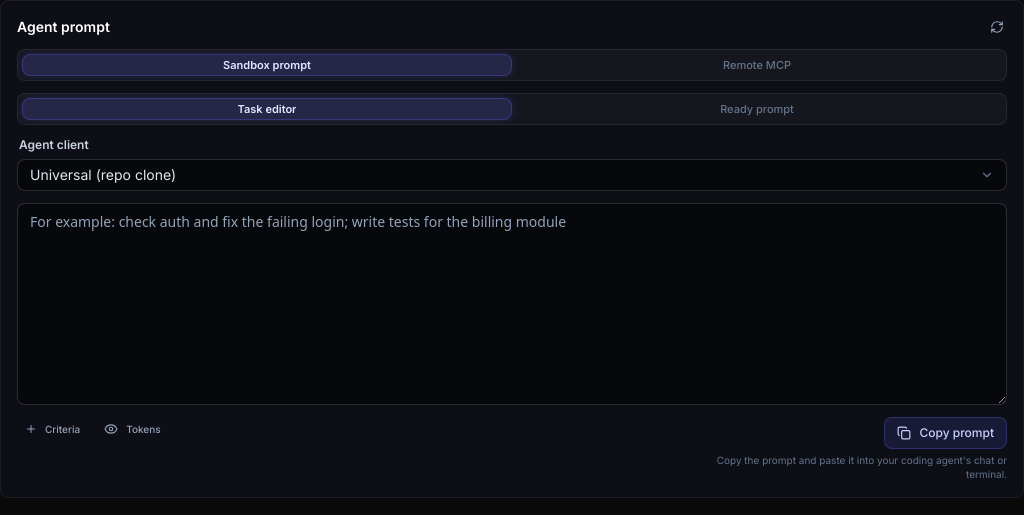
DevboxPrompt copy feedback › flashes the same footer CTA on the prompt tab
Click the button "Ready prompt" at point(757, 109), box [512,97,1002,121]
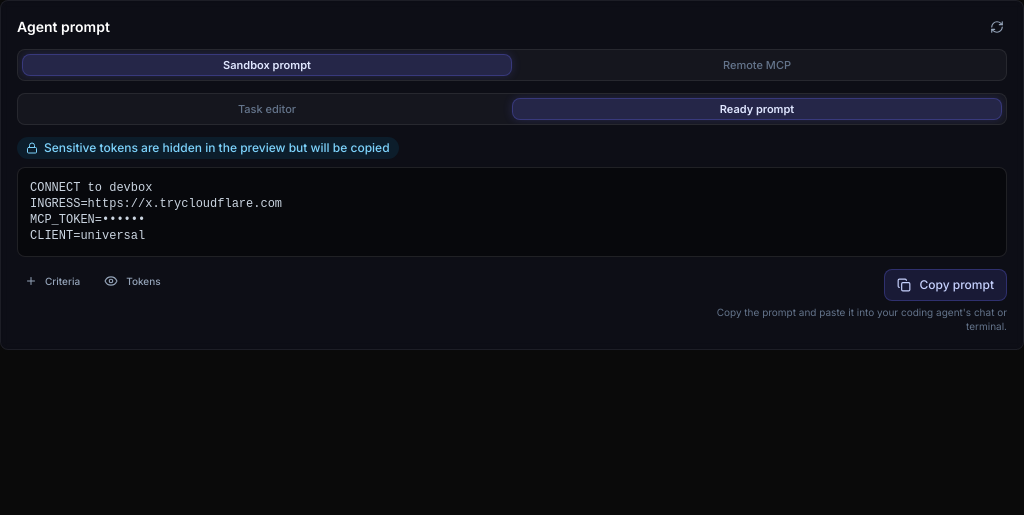
Click the button with test id "devbox-prompt-copy" at point(946, 285), box [884,269,1007,301]
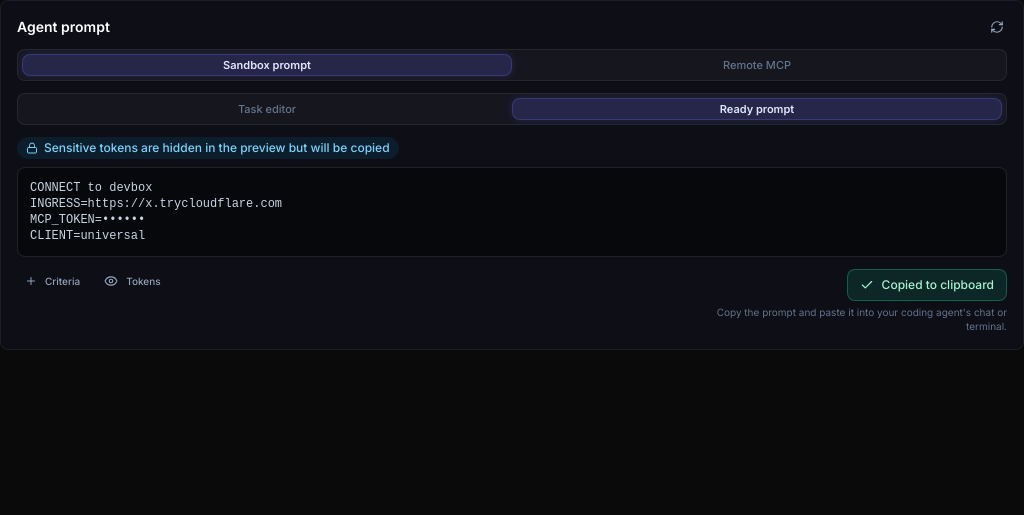
Result: the button with test id "devbox-prompt-copy" reads "Copied to clipboard" at [847,269,1007,301]
